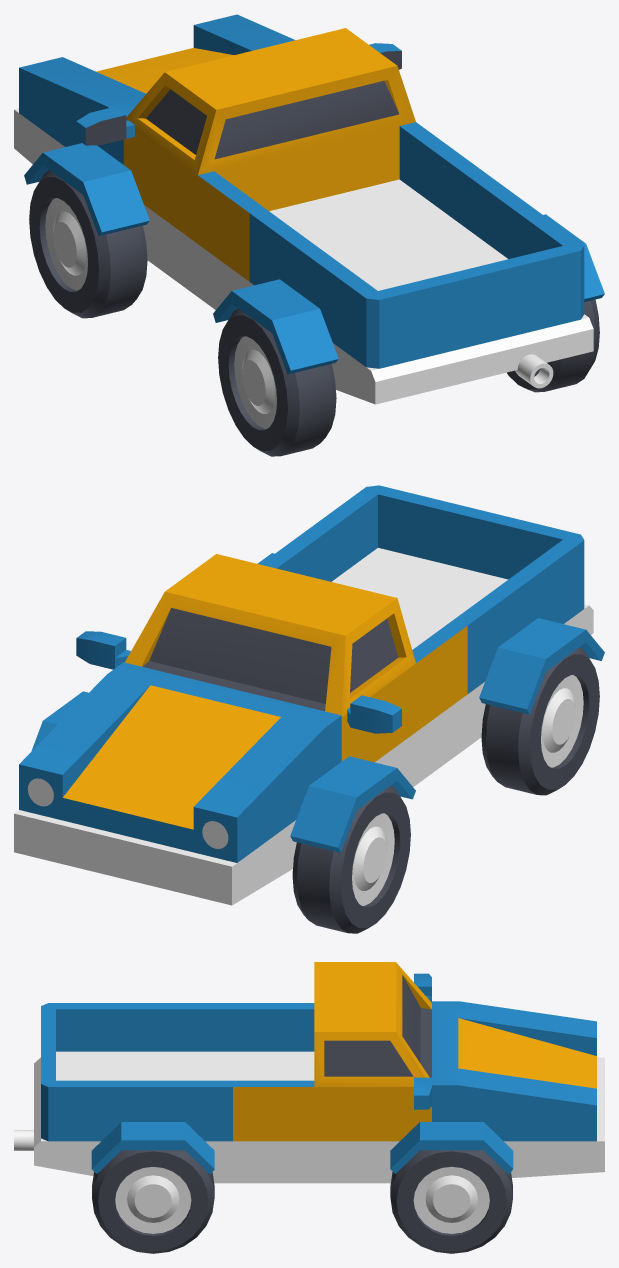
File: Player Truck 3.fbx
3 views of the same model, one above another, from view 1: azimuth 30°, elevation 25°; view 2: azimuth 150°, elevation 25°; view 3: azimuth 270°, elevation 25° (orthographic). The views are drawn at different scales.
Visible parts, largest first — view 1: windshield_truck_169, trunk_bed_152, hood_square_147, wheel_small_160, wheel_small_159, detail_fenderSquare_162, detail_fenderSquare_161, wheel_small_164, detail_mirror_155, detail_exhaust_168, detail_fenderSquare_163; view 2: hood_square_147, windshield_truck_169, trunk_bed_152, wheel_small_159, wheel_small_160, detail_fenderSquare_161, detail_fenderSquare_162, detail_mirror_155, detail_mirror_156, detail_fenderSquare_165; view 3: windshield_truck_169, trunk_bed_152, hood_square_147, wheel_small_164, wheel_small_166, detail_fenderSquare_163, detail_fenderSquare_165, detail_mirror_156, detail_exhaust_168.
Boxes of the visible parts, x1,y1,x2,y2 form: windshield_truck_169: [123, 28, 467, 309]; trunk_bed_152: [249, 160, 593, 404]; hood_square_147: [14, 14, 295, 164]; wheel_small_160: [218, 308, 336, 456]; wheel_small_159: [29, 170, 147, 318]; detail_fenderSquare_162: [213, 279, 338, 374]; detail_fenderSquare_161: [24, 143, 149, 236]; wheel_small_164: [507, 299, 599, 392]; detail_mirror_155: [76, 106, 134, 145]; detail_exhaust_168: [515, 354, 553, 388]; detail_fenderSquare_163: [543, 214, 604, 301]; hood_square_147: [14, 662, 341, 905]; windshield_truck_169: [125, 554, 467, 786]; trunk_bed_152: [260, 485, 593, 746]; wheel_small_159: [292, 785, 410, 933]; wheel_small_160: [481, 647, 599, 795]; detail_fenderSquare_161: [290, 756, 415, 852]; detail_fenderSquare_162: [479, 618, 604, 714]; detail_mirror_155: [347, 695, 401, 733]; detail_mirror_156: [76, 631, 130, 669]; detail_fenderSquare_165: [31, 691, 88, 751]; windshield_truck_169: [233, 962, 431, 1183]; trunk_bed_152: [34, 1003, 232, 1183]; hood_square_147: [432, 1001, 604, 1177]; wheel_small_164: [92, 1150, 214, 1253]; wheel_small_166: [390, 1150, 512, 1253]; detail_fenderSquare_163: [91, 1122, 214, 1174]; detail_fenderSquare_165: [390, 1122, 513, 1174]; detail_mirror_156: [414, 1077, 431, 1109]; detail_exhaust_168: [14, 1130, 33, 1150].
Size of the model in its own units: 14.5 by 11.08 by 29.7.
